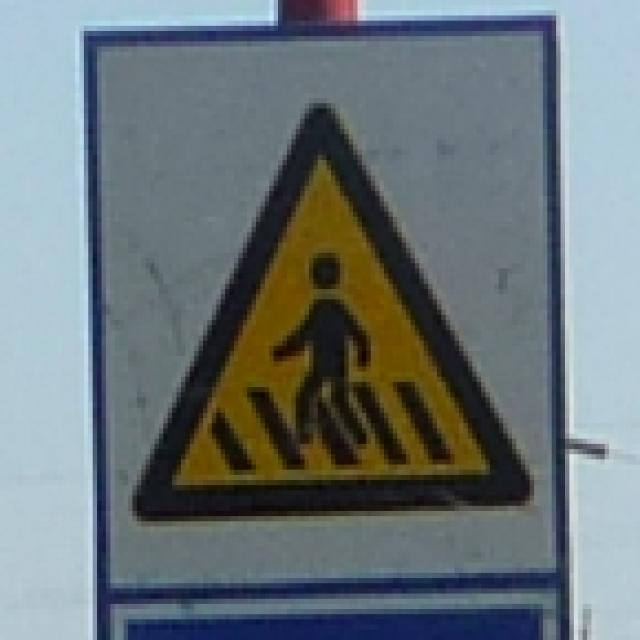Crossing: (121, 86, 540, 536)
